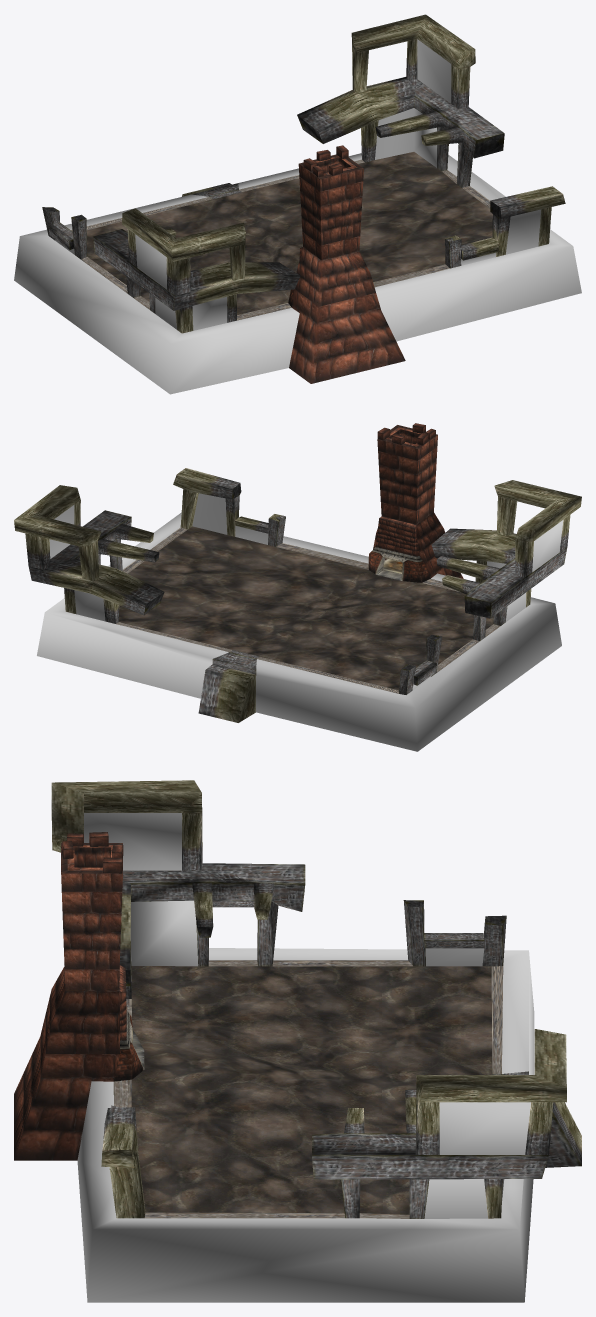
Rendered from huruinedbuildingsmed02.obj.
3 renders of one model, top to bottom at view 1: azimuth 30°, elevation 25°; view 2: azimuth 150°, elevation 25°; view 3: azimuth 270°, elevation 25°, orthographic. The views are drawn at different scales.
Parts seen in each view (by area): view 1: Med02; view 2: Med02; view 3: Med02.
Part boxes in pixels (x1=…): Med02: x1=14, y1=14, x2=581, y2=394; Med02: x1=14, y1=423, x2=581, y2=751; Med02: x1=14, y1=780, x2=581, y2=1302.
Bounding box in the file's own units: 38.46 × 16.51 × 30.33.
